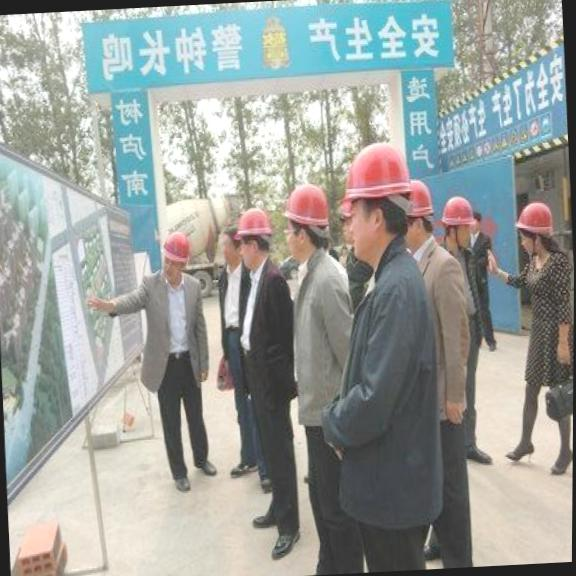no_safety_vest: (331, 264, 428, 515), (137, 276, 206, 386), (235, 266, 284, 395), (523, 256, 571, 370)
